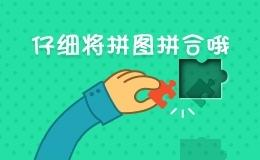target: (156, 40, 200, 78)
